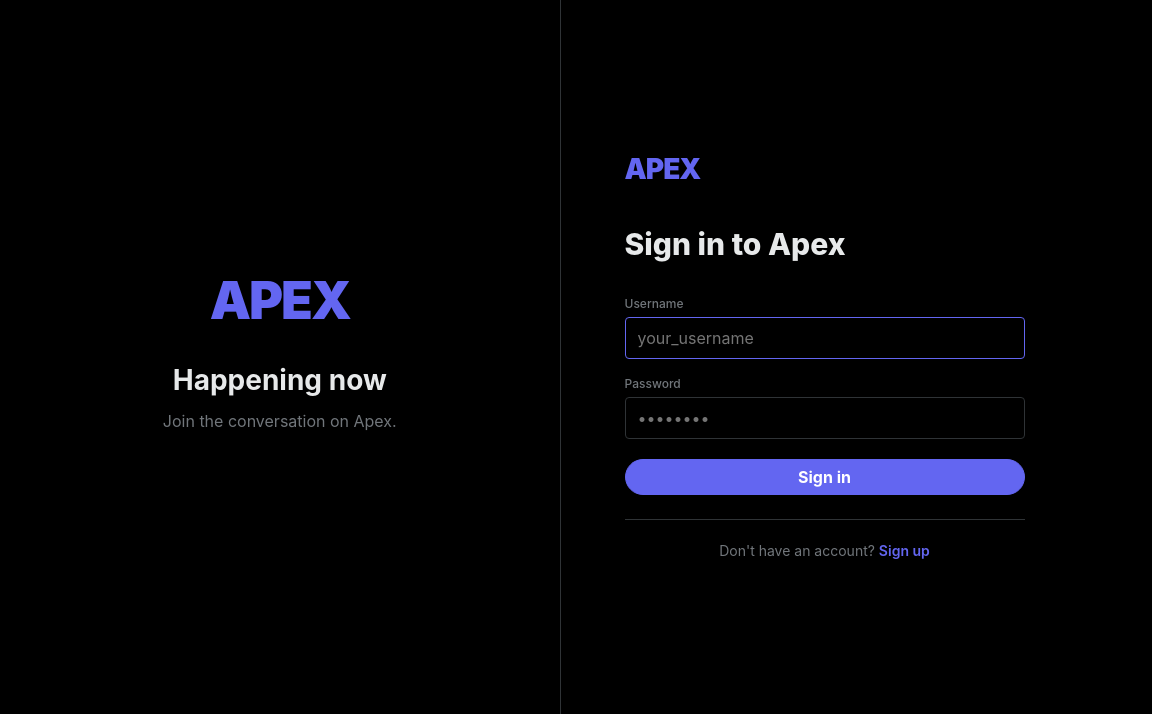
AuthPage — mode switching › switches back to signin mode when "Sign in" link is clicked
Click the text "Sign up". click: (904, 550)
box: 879,542 -> 930,558
(page scrolled)
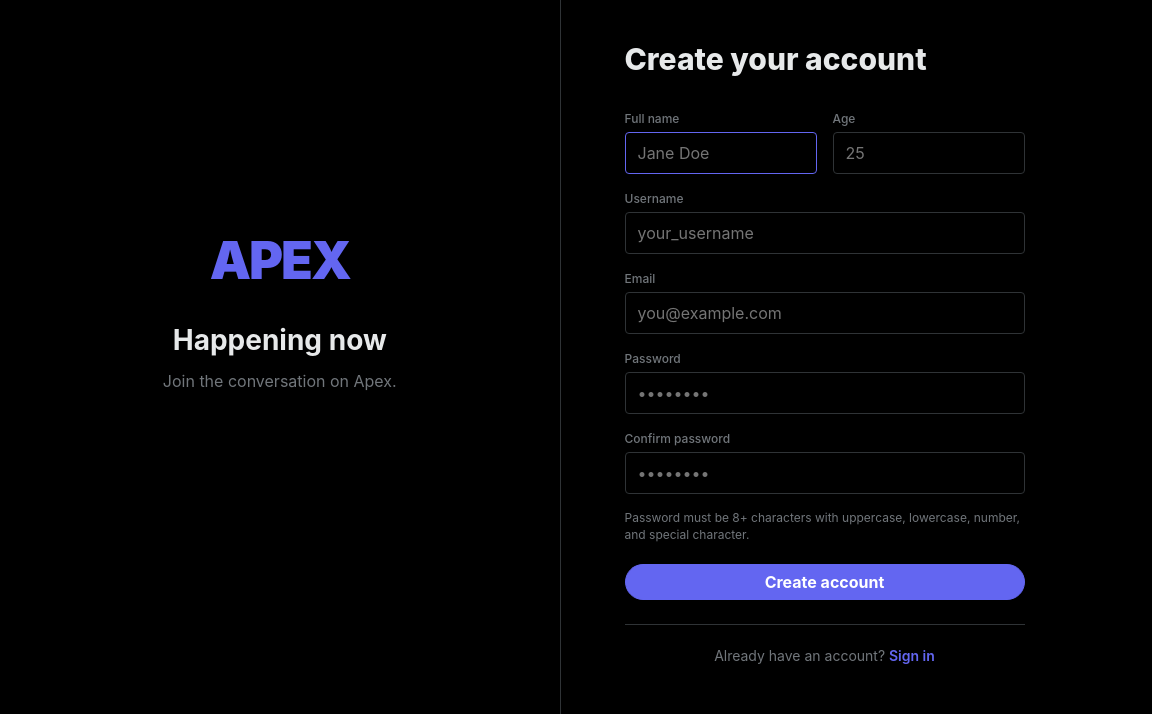
Click the text "Sign in". click: (912, 655)
box: 889,647 -> 935,664
(page scrolled)
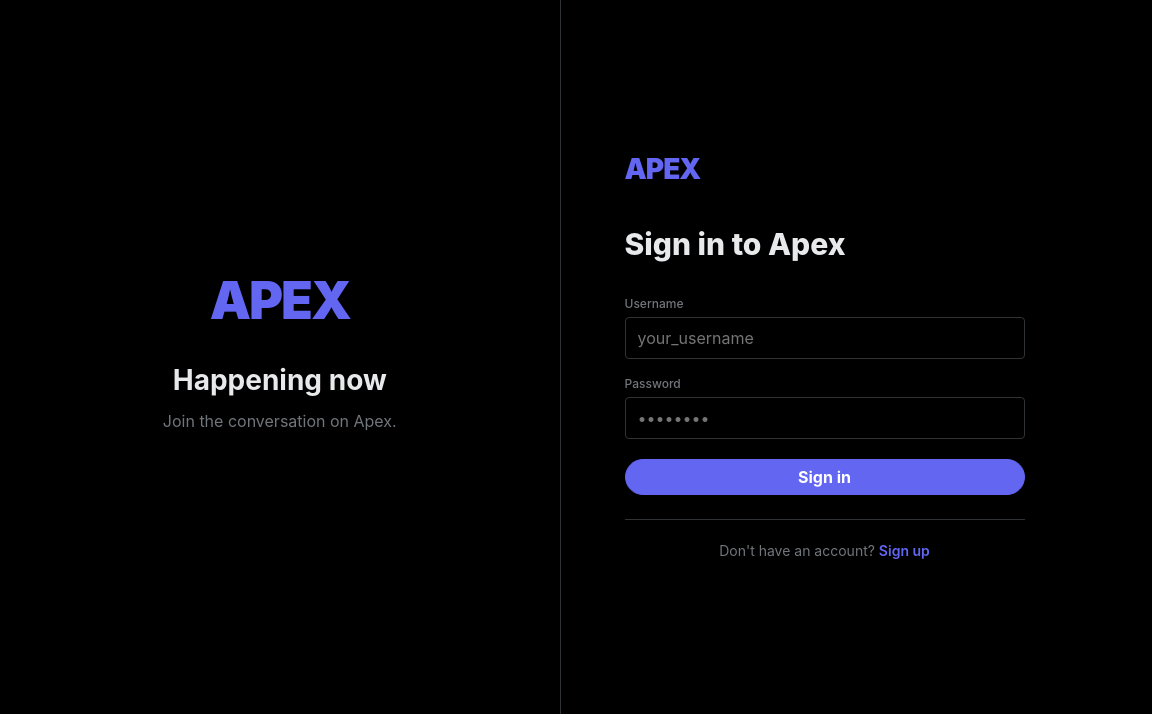
Result: the heading "Sign in to Apex" is shown at 624,222 -> 846,266
